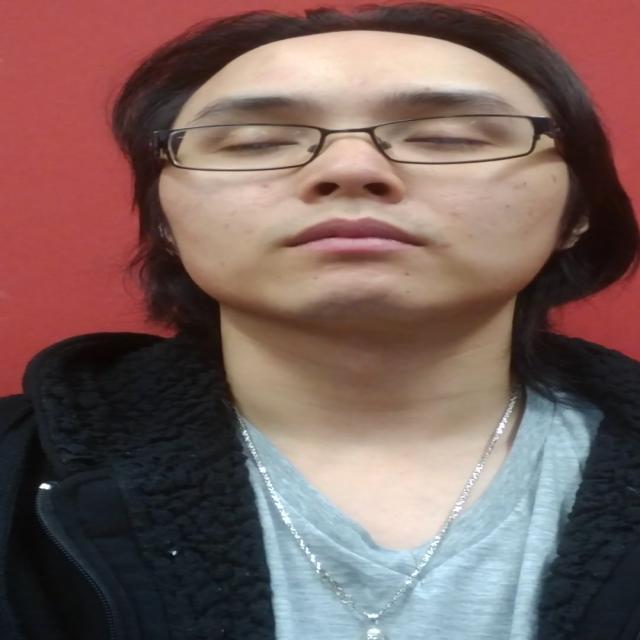Eyeclosed: (399, 120, 497, 153), (218, 125, 300, 159)
